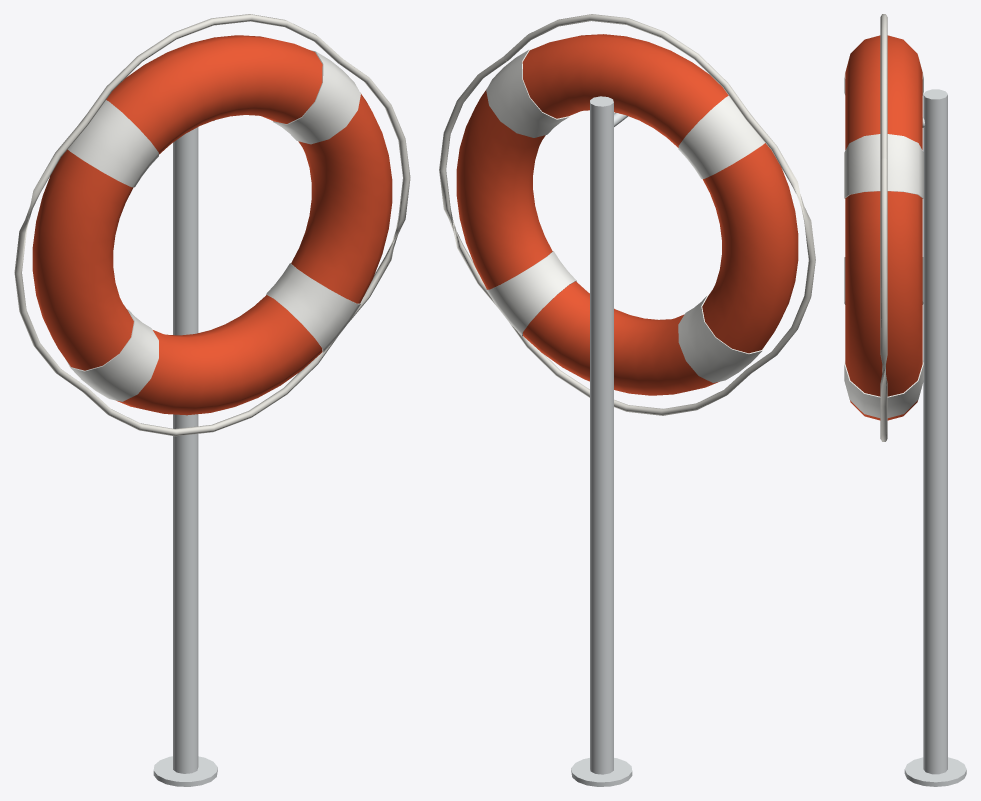
The model's file is life-ring.glb.
3 renders of one model, left to right at view 1: azimuth 30°, elevation 25°; view 2: azimuth 150°, elevation 25°; view 3: azimuth 270°, elevation 25°, orthographic. The views are drawn at different scales.
Parts seen in each view (by area): view 1: life-ring-ring, life-ring-steel, life-ring-band, life-ring-rope; view 2: life-ring-ring, life-ring-steel, life-ring-band, life-ring-rope; view 3: life-ring-ring, life-ring-steel, life-ring-band, life-ring-rope.
Part boxes in pixels (left/top/right/bottom): life-ring-ring: left=32, top=35, right=392, bottom=415; life-ring-steel: left=153, top=120, right=217, bottom=786; life-ring-band: left=66, top=50, right=360, bottom=401; life-ring-rope: left=14, top=14, right=410, bottom=436; life-ring-ring: left=456, top=34, right=798, bottom=395; life-ring-steel: left=571, top=96, right=632, bottom=786; life-ring-band: left=486, top=48, right=766, bottom=382; life-ring-rope: left=439, top=14, right=815, bottom=415; life-ring-ring: left=845, top=35, right=922, bottom=420; life-ring-steel: left=904, top=89, right=966, bottom=786; life-ring-band: left=844, top=56, right=923, bottom=417; life-ring-rope: left=880, top=14, right=887, bottom=441.
Bounding box in the file's own units: 0.8461 × 1.59 × 0.237.
